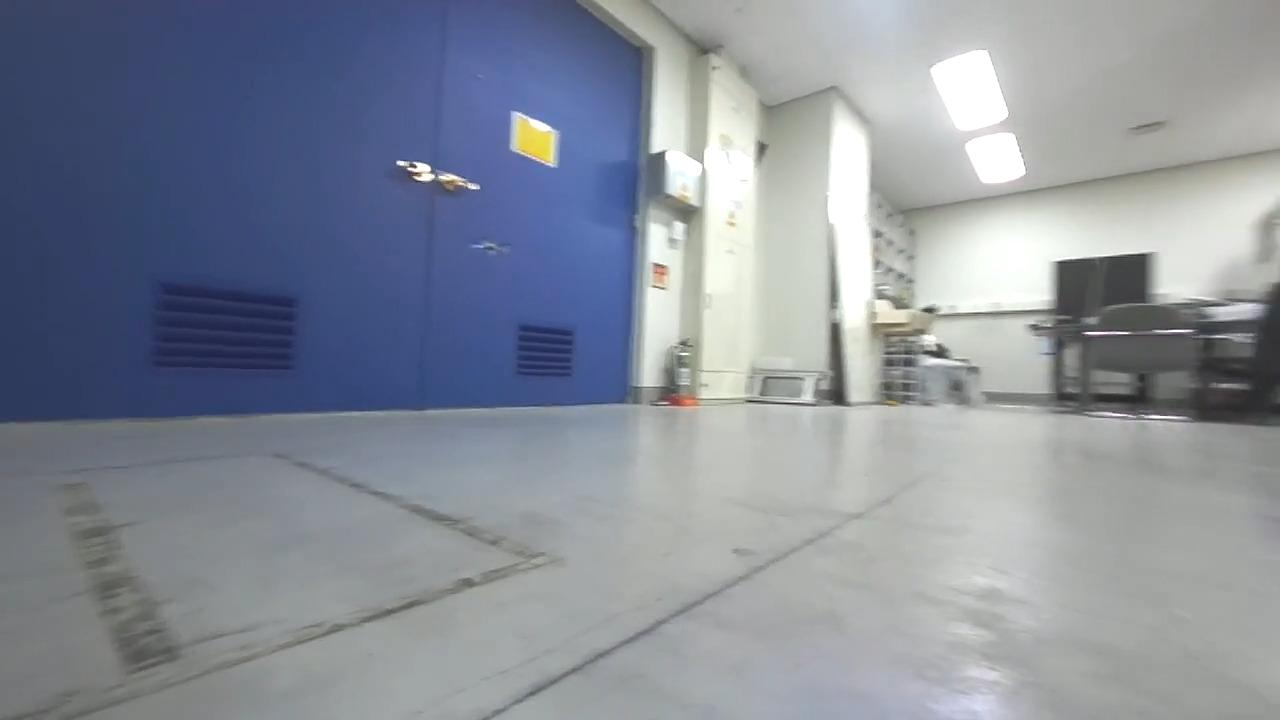crazyflie: (464, 235, 513, 260)
